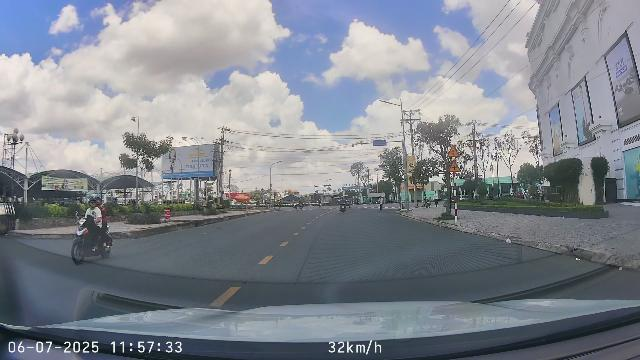209-giao-nhau-co-tin-hieu-den: (447, 144, 459, 157)
